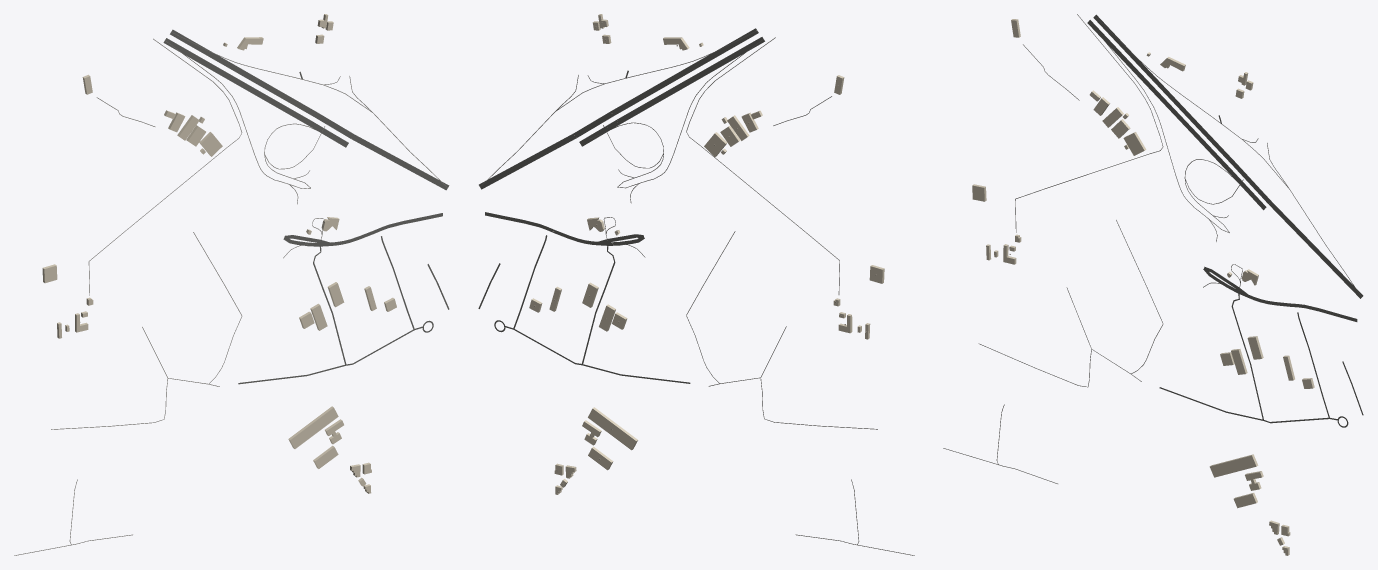
The model's file is historic-palestine-07_27_3494_3214.glb.
3 renders of one model, left to right at view 1: azimuth 30°, elevation 25°; view 2: azimuth 150°, elevation 25°; view 3: azimuth 330°, elevation 25°, orthographic. The views are drawn at different scales.
Visible parts, largest first — view 1: Road 531.005, Road 531.004, Building_, Road 531.002; view 2: Road 531.004, Road 531.005, Building_, Road 531.002; view 3: Road 531.005, Road 531.004, Road 531.002, Building_.
Boxes of the visible parts, <box> form: Road 531.005: <box>163,38,311,125</box>; Road 531.004: <box>170,29,316,116</box>; Building_: <box>288,406,338,448</box>; Road 531.002: <box>351,134,449,190</box>; Road 531.004: <box>611,28,758,115</box>; Road 531.005: <box>617,37,764,124</box>; Building_: <box>588,407,637,450</box>; Road 531.002: <box>479,133,576,189</box>; Road 531.005: <box>1087,20,1229,170</box>; Road 531.004: <box>1093,14,1235,165</box>; Road 531.002: <box>1269,201,1363,298</box>; Building_: <box>1209,454,1258,477</box>.
Bounding box in the file's own units: 1046 × 1177 × 8.7.
